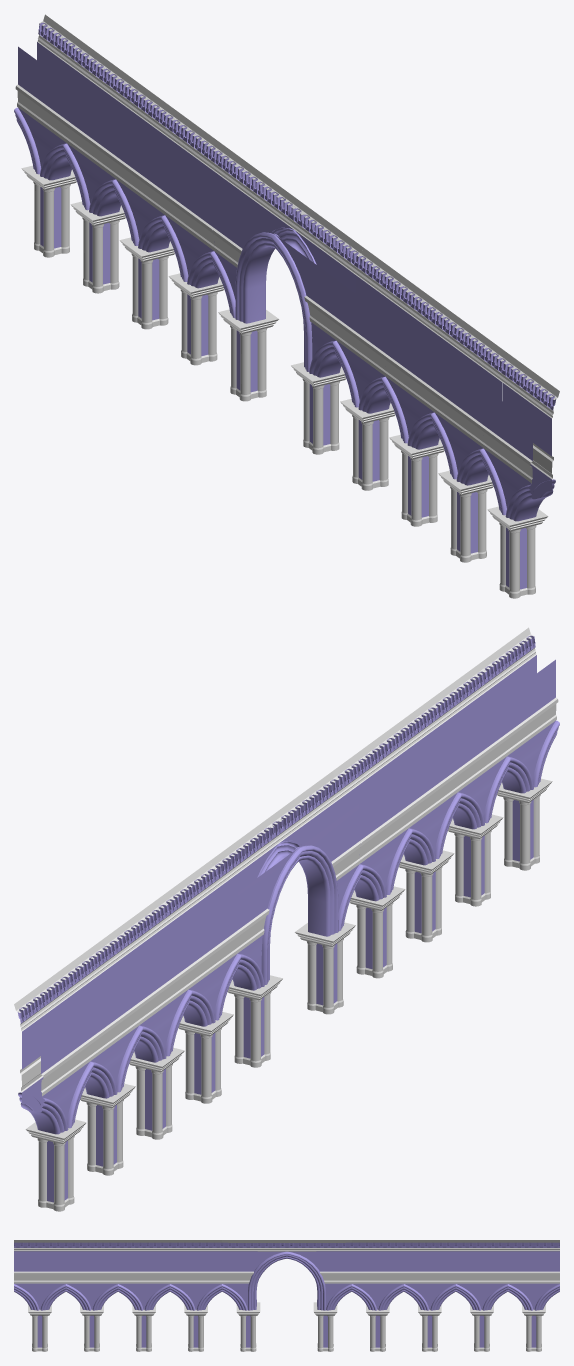
Rendered from Guard station Arches.fbx.
The picture shows the model from 3 angles, top to bottom: view 1: azimuth 30°, elevation 25°; view 2: azimuth 150°, elevation 25°; view 3: azimuth 270°, elevation 25°; orthographic projection. The views are drawn at different scales.
Visible parts, largest first — view 1: Big Arch.002, Arch Middle.042, Arch Middle.035, Arch Middle.040, Arch Middle.039, Arch Middle.041, Arch Middle.036, Arch Middle.037, Arch Middle.038; view 2: Big Arch.002, Arch Middle.038, Arch Middle.039, Arch Middle.035, Arch Middle.036, Arch Middle.037, Arch Middle.040, Arch Middle.042, Arch Middle.041; view 3: Big Arch.002, Arch Middle.036, Arch Middle.035, Arch Middle.037, Arch Middle.038, Arch Middle.039, Arch Middle.040, Arch Middle.041, Arch Middle.042.
Part boxes in pixels (box(x1,y1,x2,y2)): Big Arch.002: box(210, 158, 363, 454); Arch Middle.042: box(480, 355, 559, 598); Arch Middle.035: box(161, 122, 241, 365); Arch Middle.040: box(381, 284, 461, 526); Arch Middle.039: box(332, 248, 412, 490); Arch Middle.041: box(431, 320, 510, 562); Arch Middle.036: box(112, 86, 192, 329); Arch Middle.037: box(63, 50, 142, 293); Arch Middle.038: box(14, 14, 93, 257); Big Arch.002: box(210, 771, 363, 1067); Arch Middle.038: box(14, 968, 93, 1211); Arch Middle.039: box(332, 735, 412, 978); Arch Middle.035: box(161, 861, 241, 1103); Arch Middle.036: box(112, 897, 192, 1139); Arch Middle.037: box(63, 933, 142, 1175); Arch Middle.040: box(381, 699, 461, 942); Arch Middle.042: box(480, 627, 559, 870); Arch Middle.041: box(431, 663, 510, 906); Big Arch.002: box(222, 1240, 351, 1351); Arch Middle.036: box(404, 1240, 455, 1351); Arch Middle.035: box(352, 1240, 403, 1351); Arch Middle.037: box(456, 1240, 507, 1351); Arch Middle.038: box(508, 1240, 559, 1351); Arch Middle.039: box(170, 1240, 221, 1351); Arch Middle.040: box(118, 1240, 169, 1351); Arch Middle.041: box(66, 1240, 117, 1351); Arch Middle.042: box(14, 1240, 65, 1351).
Bounding box in the file's own units: 161 × 844 × 3693.
